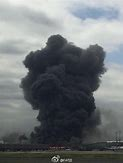smoke: (20, 34, 105, 144)
